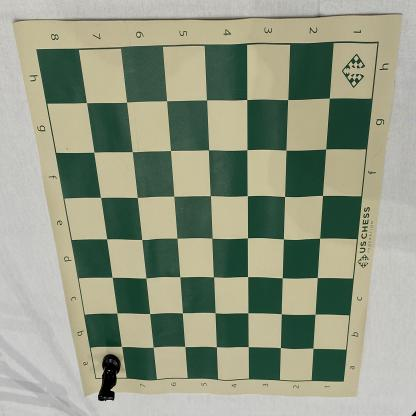black-knight: (98, 353, 122, 402)
